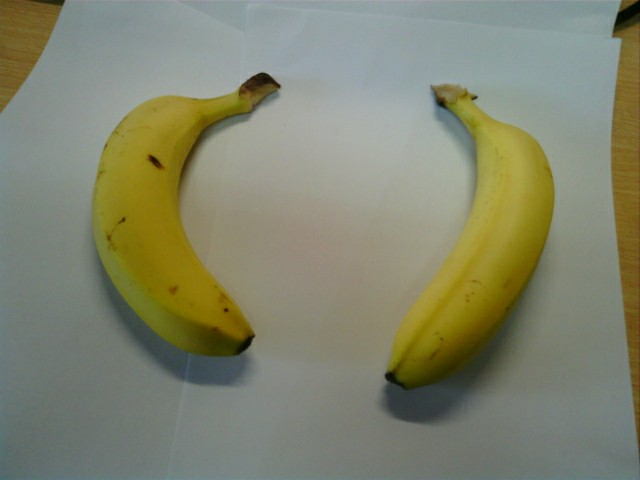fresh_banana: (376, 82, 558, 396)
normal_banana: (89, 71, 257, 358)
